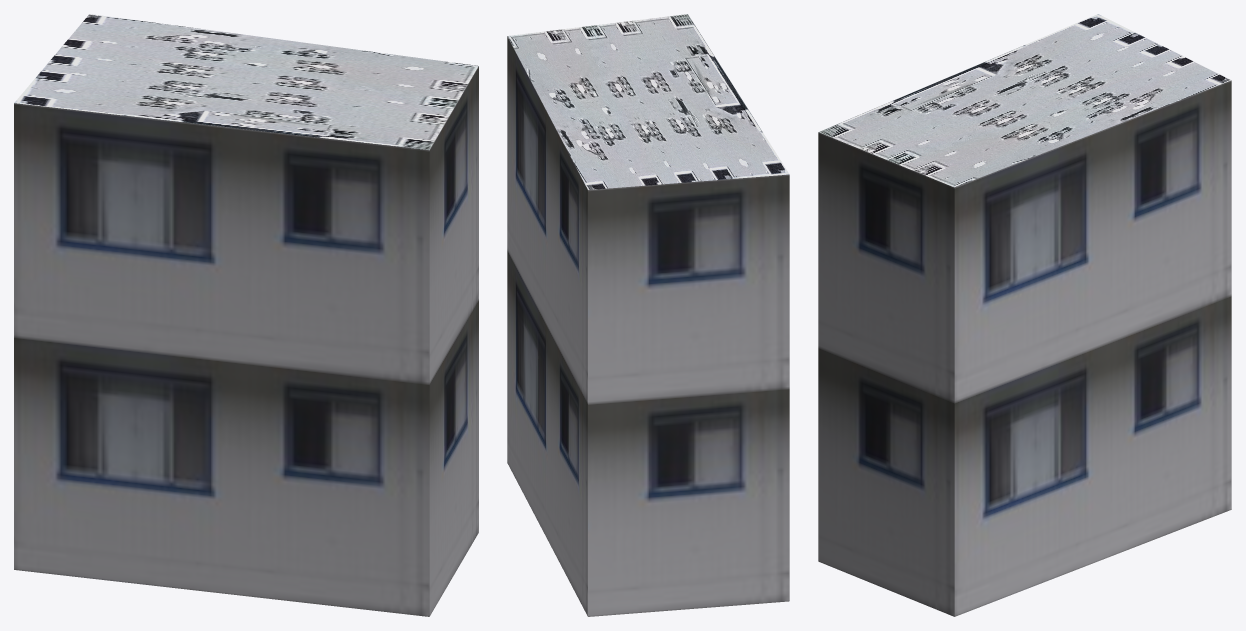
The model's file is ResTex__1601.fbx.
The picture shows the model from 3 angles, left to right: view 1: azimuth 30°, elevation 25°; view 2: azimuth 150°, elevation 25°; view 3: azimuth 270°, elevation 25°; orthographic projection. The views are drawn at different scales.
Parts seen in each view (by area): view 1: CityEngineMaterial_9_m, CityEngineMaterial_4_m; view 2: CityEngineMaterial_9_m, CityEngineMaterial_4_m; view 3: CityEngineMaterial_9_m, CityEngineMaterial_4_m.
Part boxes in pixels (left/top/right/bottom): CityEngineMaterial_9_m: left=14, top=66, right=478, bottom=616; CityEngineMaterial_4_m: left=14, top=14, right=478, bottom=150; CityEngineMaterial_9_m: left=507, top=36, right=789, bottom=616; CityEngineMaterial_4_m: left=507, top=14, right=789, bottom=189; CityEngineMaterial_9_m: left=818, top=80, right=1231, bottom=616; CityEngineMaterial_4_m: left=818, top=14, right=1230, bottom=187.
Bounding box in the file's own units: 5.2 × 6 × 5.23.
Materials: 2 (2 with a texture image).
